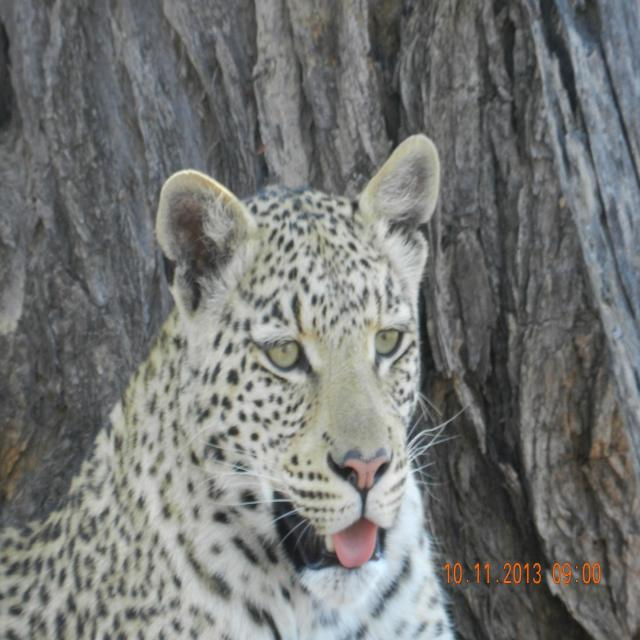Leopard: (0, 131, 543, 640)
